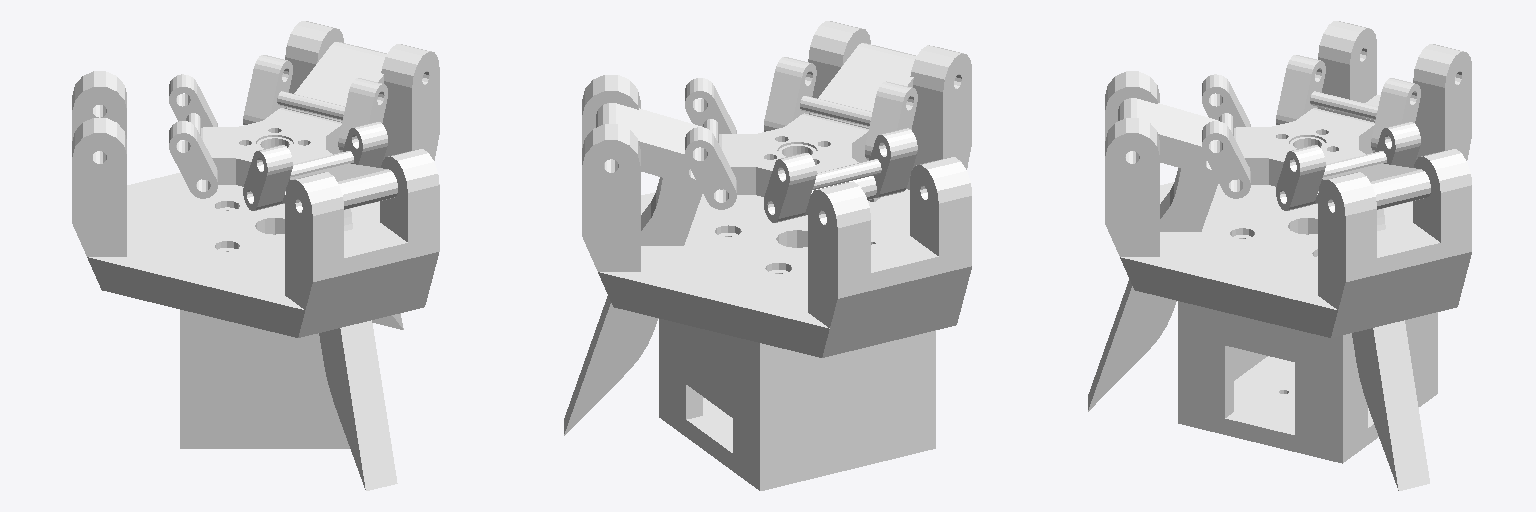
The robot description file, URDF, robot "threefingerv7":
<?xml version="1.0" encoding="utf-8"?>
<!-- This URDF was automatically created by SolidWorks to URDF Exporter! Originally created by [author] ([email redacted]) 
     Commit Version: 1.6.0-4-g7f85cfe  Build Version: 1.6.7995.38578
     For more information, please see http://wiki.ros.org/sw_urdf_exporter -->
<robot
  name="threefingerv7">
  <link
    name="base_link">
    <inertial>
      <origin
        xyz="-0.000400704444301246 2.53834015733273E-05 -0.00850922709249782"
        rpy="0 0 0" />
      <mass
        value="0.158098732405424" />
      <inertia
        ixx="0.000154350646624654"
        ixy="-2.77272753195956E-07"
        ixz="-2.27161818492852E-06"
        iyy="0.000154004906445453"
        iyz="-7.99058211216347E-09"
        izz="0.000217118434161234" />
    </inertial>
    <visual>
      <origin
        xyz="0 0 0"
        rpy="0 0 0" />
      <geometry>
        <mesh
          filename="package://threefingerv7/meshes/base_link.STL" />
      </geometry>
      <material
        name="">
        <color
          rgba="1 1 1 1" />
      </material>
    </visual>
    <collision>
      <origin
        xyz="0 0 0"
        rpy="0 0 0" />
      <geometry>
        <mesh
          filename="package://threefingerv7/meshes/base_link.STL" />
      </geometry>
    </collision>
  </link>
  <link
    name="move_link">
    <inertial>
      <origin
        xyz="-1.38840313242298E-18 1.1767319360884E-17 -0.00419243214234177"
        rpy="0 0 0" />
      <mass
        value="0.0085021271877303" />
      <inertia
        ixx="9.76418874057016E-07"
        ixy="-1.05879118406788E-22"
        ixz="3.53801734527502E-23"
        iyy="9.7641887405701E-07"
        iyz="5.4830223945276E-23"
        izz="1.86965817859979E-06" />
    </inertial>
    <visual>
      <origin
        xyz="0 0 0"
        rpy="0 0 0" />
      <geometry>
        <mesh
          filename="package://threefingerv7/meshes/move_link.STL" />
      </geometry>
      <material
        name="">
        <color
          rgba="1 1 1 1" />
      </material>
    </visual>
    <collision>
      <origin
        xyz="0 0 0"
        rpy="0 0 0" />
      <geometry>
        <mesh
          filename="package://threefingerv7/meshes/move_link.STL" />
      </geometry>
    </collision>
  </link>
  <joint
    name="move_joint"
    type="prismatic">
    <origin
      xyz="0 0 0.025087"
      rpy="0 0 0" />
    <parent
      link="base_link" />
    <child
      link="move_link" />
    <axis
      xyz="0 0 -1" />
    <limit
      lower="-0.5"
      upper="0.5"
      effort="5000"
      velocity="2" />
  </joint>
  <link
    name="11_link">
    <inertial>
      <origin
        xyz="-0.0064999999999939 -5.07406616723216E-15 0.015"
        rpy="0 0 0" />
      <mass
        value="0.0023425840131754" />
      <inertia
        ixx="4.99013749037845E-07"
        ixy="1.32348898008484E-23"
        ixz="-7.74228380420826E-24"
        iyy="5.48312815441792E-07"
        iyz="-4.68478650567877E-23"
        izz="7.32310540795453E-08" />
    </inertial>
    <visual>
      <origin
        xyz="0 0 0"
        rpy="0 0 0" />
      <geometry>
        <mesh
          filename="package://threefingerv7/meshes/11_link.STL" />
      </geometry>
      <material
        name="">
        <color
          rgba="1 1 1 1" />
      </material>
    </visual>
    <collision>
      <origin
        xyz="0 0 0"
        rpy="0 0 0" />
      <geometry>
        <mesh
          filename="package://threefingerv7/meshes/11_link.STL" />
      </geometry>
    </collision>
  </link>
  <joint
    name="11_joint"
    type="revolute">
    <origin
      xyz="-0.0093875 0.02274 -0.004"
      rpy="1.5708 1.1355 -0.5236" />
    <parent
      link="move_link" />
    <child
      link="11_link" />
    <axis
      xyz="0 0 -1" />
    <limit
      lower="-1.57"
      upper="1.57"
      effort="5000"
      velocity="2" />
    <mimic
      joint="move_joint"
      multiplier="1"
      offset="0" />
  </joint>
  <link
    name="12_link">
    <inertial>
      <origin
        xyz="-0.0293208969248166 -0.00876107376233067 0.0190000001135646"
        rpy="0 0 0" />
      <mass
        value="0.0122579255984349" />
      <inertia
        ixx="9.84660892016069E-07"
        ixy="1.31799544484654E-06"
        ixz="-2.57676349373328E-14"
        iyy="7.20160465350243E-06"
        iyz="1.09652704731506E-14"
        izz="7.77283391142852E-06" />
    </inertial>
    <visual>
      <origin
        xyz="0 0 0"
        rpy="0 0 0" />
      <geometry>
        <mesh
          filename="package://threefingerv7/meshes/12_link.STL" />
      </geometry>
      <material
        name="">
        <color
          rgba="1 1 1 1" />
      </material>
    </visual>
    <collision>
      <origin
        xyz="0 0 0"
        rpy="0 0 0" />
      <geometry>
        <mesh
          filename="package://threefingerv7/meshes/12_link.STL" />
      </geometry>
    </collision>
  </link>
  <!-- <joint
    name="12_joint"
    type="revolute">
    <origin
      xyz="-0.013 0 -0.004"
      rpy="0 0 0" />
    <parent
      link="11_link" />
    <child
      link="12_link" />
    <axis
      xyz="0 0 -1" />
    <limit
      lower="-1.57"
      upper="1.57"
      effort="5000"
      velocity="2" />
    <mimic
      joint="11_joint"
      multiplier="1"
      offset="0" />
  </joint> -->
  <link
    name="21_link">
    <inertial>
      <origin
        xyz="0.00649999999999391 -5.00901403688303E-15 -0.019"
        rpy="0 0 0" />
      <mass
        value="0.0023425840131754" />
      <inertia
        ixx="4.99013749037844E-07"
        ixy="-5.9557004103818E-23"
        ixz="-1.3648480107125E-22"
        iyy="5.48312815441791E-07"
        iyz="-8.27180612553028E-24"
        izz="7.32310540795452E-08" />
    </inertial>
    <visual>
      <origin
        xyz="0 0 0"
        rpy="0 0 0" />
      <geometry>
        <mesh
          filename="package://threefingerv7/meshes/21_link.STL" />
      </geometry>
      <material
        name="">
        <color
          rgba="1 1 1 1" />
      </material>
    </visual>
    <collision>
      <origin
        xyz="0 0 0"
        rpy="0 0 0" />
      <geometry>
        <mesh
          filename="package://threefingerv7/meshes/21_link.STL" />
      </geometry>
    </collision>
  </link>
  <joint
    name="21_joint"
    type="revolute">
    <origin
      xyz="-0.019 -0.0195 -0.004"
      rpy="1.5708 -1.1355 -1.5708" />
    <parent
      link="move_link" />
    <child
      link="21_link" />
    <axis
      xyz="0 0 1" />
    <limit
      lower="-1.57"
      upper="1.57"
      effort="5000"
      velocity="2" />
    <mimic
      joint="move_joint"
      multiplier="1"
      offset="0" />
  </joint>
  <link
    name="22_link">
    <inertial>
      <origin
        xyz="0.0293216343766863 -0.00876108435078396 -0.0190000103494336"
        rpy="0 0 0" />
      <mass
        value="0.0122572499897457" />
      <inertia
        ixx="9.84650226311451E-07"
        ixy="-1.31798330895562E-06"
        ixz="-1.09743409174181E-12"
        iyy="7.20145547037363E-06"
        iyz="3.4075082013164E-13"
        izz="7.77268089083732E-06" />
    </inertial>
    <visual>
      <origin
        xyz="0 0 0"
        rpy="0 0 0" />
      <geometry>
        <mesh
          filename="package://threefingerv7/meshes/22_link.STL" />
      </geometry>
      <material
        name="">
        <color
          rgba="1 1 1 1" />
      </material>
    </visual>
    <collision>
      <origin
        xyz="0 0 0"
        rpy="0 0 0" />
      <geometry>
        <mesh
          filename="package://threefingerv7/meshes/22_link.STL" />
      </geometry>
    </collision>
  </link>
  <!-- <joint
    name="22_joint"
    type="revolute">
    <origin
      xyz="0.013 0 0"
      rpy="0 0 0" />
    <parent
      link="21_link" />
    <child
      link="22_link" />
    <axis
      xyz="0 0 1" />
    <limit
      lower="-1.57"
      upper="1.57"
      effort="5000"
      velocity="2" />
    <mimic
      joint="21_joint"
      multiplier="1"
      offset="0" />
  </joint> -->
  <link
    name="31_link">
    <inertial>
      <origin
        xyz="-0.00649999999999392 -5.04370850640257E-15 0.019"
        rpy="0 0 0" />
      <mass
        value="0.0023425840131754" />
      <inertia
        ixx="4.99013749037845E-07"
        ixy="3.30872245021211E-24"
        ixz="2.23338765389317E-23"
        iyy="5.48312815441792E-07"
        iyz="2.15066959263787E-22"
        izz="7.32310540795452E-08" />
    </inertial>
    <visual>
      <origin
        xyz="0 0 0"
        rpy="0 0 0" />
      <geometry>
        <mesh
          filename="package://threefingerv7/meshes/31_link.STL" />
      </geometry>
      <material
        name="">
        <color
          rgba="1 1 1 1" />
      </material>
    </visual>
    <collision>
      <origin
        xyz="0 0 0"
        rpy="0 0 0" />
      <geometry>
        <mesh
          filename="package://threefingerv7/meshes/31_link.STL" />
      </geometry>
    </collision>
  </link>
  <joint
    name="31_joint"
    type="revolute">
    <origin
      xyz="0.026387 -0.0067045 -0.004"
      rpy="1.5708 1.1355 -2.618" />
    <parent
      link="move_link" />
    <child
      link="31_link" />
    <axis
      xyz="0 0 -1" />
    <limit
      lower="-1.57"
      upper="1.57"
      effort="5000"
      velocity="2" />
    <mimic
      joint="move_joint"
      multiplier="1"
      offset="0" />
  </joint>
  <link
    name="32_link">
    <inertial>
      <origin
        xyz="0.0293216345242573 -0.00876108429611774 -0.0189999898761313"
        rpy="0 0 0" />
      <mass
        value="0.0122572498826079" />
      <inertia
        ixx="9.84650224489368E-07"
        ixy="-1.31798329819406E-06"
        ixz="1.04568287397069E-12"
        iyy="7.20145543798657E-06"
        iyz="-3.61695921355528E-13"
        izz="7.77268085824629E-06" />
    </inertial>
    <visual>
      <origin
        xyz="0 0 0"
        rpy="0 0 0" />
      <geometry>
        <mesh
          filename="package://threefingerv7/meshes/32_link.STL" />
      </geometry>
      <material
        name="">
        <color
          rgba="1 1 1 1" />
      </material>
    </visual>
    <collision>
      <origin
        xyz="0 0 0"
        rpy="0 0 0" />
      <geometry>
        <mesh
          filename="package://threefingerv7/meshes/32_link.STL" />
      </geometry>
    </collision>
  </link>
  <!-- <joint
    name="32_joint"
    type="revolute">
    <origin
      xyz="-0.013 0 0"
      rpy="3.1416 0 3.1416" />
    <parent
      link="31_link" />
    <child
      link="32_link" />
    <axis
      xyz="0 0 1" />
    <limit
      lower="-1.57"
      upper="1.57"
      effort="5000"
      velocity="2" />
    <mimic
      joint="31_joint"
      multiplier="1"
      offset="0" />
  </joint> -->

  <joint
    name="12_joint2"
    type="revolute">
    <origin
      xyz="-0.031397 0.041221 0.03"
      rpy="1.0472 1.5708 2.093" />
    <parent
      link="base_link" />
    <child
      link="12_link" />
    <axis
      xyz="0 0 -1" />
    <limit
      lower="-1.57"
      upper="1.57"
      effort="5000"
      velocity="2" />
  </joint>

  <joint
    name="22_joint2"
    type="revolute">
    <origin
      xyz="-0.02 -0.047801 0.03"
      rpy="3.1416 1.5708 0" />
    <parent
      link="base_link" />
    <child
      link="22_link" />
    <axis
      xyz="0 0 -1" />
    <limit
      lower="-1.57"
      upper="1.57"
      effort="5000"
      velocity="2" />
  </joint>

  <joint
    name="32_joint2"
    type="revolute">
    <origin
      xyz="0.051397 0.0065801 0.03"
      rpy="1.0472 1.5708 0" />
    <parent
      link="base_link" />
    <child
      link="32_link" />
    <axis
      xyz="0 0 -1" />
    <limit
      lower="-1.57"
      upper="1.57"
      effort="5000"
      velocity="2" />
  </joint>
</robot>

--- Facts derived from the render (not from the file) ---
Views: 3 orthographic renders of the robot side by side, from view 1: azimuth 30°, elevation 25°; view 2: azimuth 150°, elevation 25°; view 3: azimuth 270°, elevation 25°.
Model threefingerv7 with 8 links and 7 joints (6 revolute, 1 prismatic), rooted at base_link, posed all joints at 0.
Visible links, largest first — view 1: base_link, 22_link, move_link, 31_link, 21_link, 11_link, 32_link; view 2: base_link, 32_link, move_link, 11_link, 21_link, 31_link, 22_link; view 3: base_link, 22_link, 32_link, move_link, 11_link, 31_link, 21_link.
Boxes of the visible links, box(x1,y1,x2,y2) form: base_link: box(72, 21, 439, 448); 22_link: box(283, 163, 397, 490); move_link: box(201, 108, 341, 203); 31_link: box(243, 55, 387, 151); 21_link: box(243, 122, 387, 210); 11_link: box(169, 74, 217, 198); 32_link: box(287, 42, 403, 329); base_link: box(582, 21, 971, 490); 32_link: box(564, 103, 702, 435); move_link: box(719, 113, 876, 215); 11_link: box(764, 128, 917, 222); 21_link: box(764, 57, 917, 160); 31_link: box(685, 78, 736, 209); 22_link: box(810, 43, 916, 201); base_link: box(1105, 21, 1471, 463); 22_link: box(1088, 98, 1218, 411); 32_link: box(1316, 163, 1430, 490); move_link: box(1234, 108, 1374, 203); 11_link: box(1276, 55, 1420, 151); 31_link: box(1276, 122, 1420, 210); 21_link: box(1202, 74, 1250, 198).
Size in the robot's own frame: 0.1158 by 0.1051 by 0.0923 metres.
Meshes: 8 distinct files referenced, 7 mesh visuals loaded (7 binary STL); not drawn: 1 (reference not matched to a file when rendering).